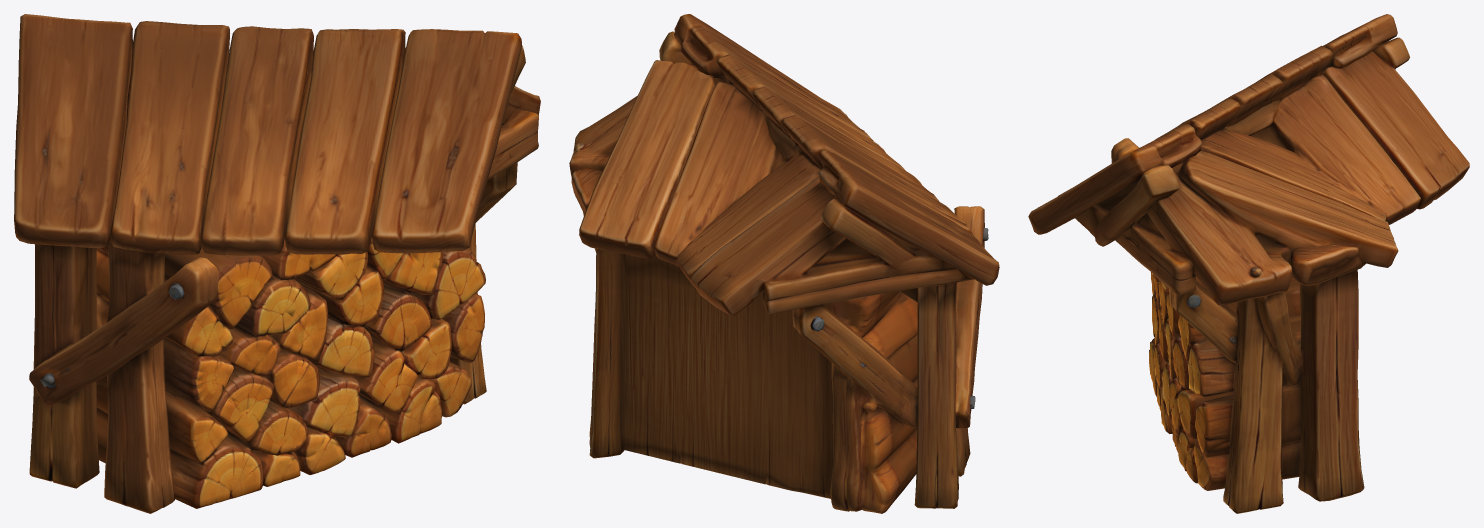
The model's file is firewood_stack.glb.
3 views of the same model, side by side, from view 1: azimuth 30°, elevation 25°; view 2: azimuth 150°, elevation 25°; view 3: azimuth 270°, elevation 25° (orthographic). The views are drawn at different scales.
Visible parts, largest first — view 1: tripo_node_5b05d00f-0650-4277-80a3-88990b7333b4; view 2: tripo_node_5b05d00f-0650-4277-80a3-88990b7333b4; view 3: tripo_node_5b05d00f-0650-4277-80a3-88990b7333b4.
Part boxes in pixels (bbox=[...]): tripo_node_5b05d00f-0650-4277-80a3-88990b7333b4: bbox=[14, 14, 540, 513]; tripo_node_5b05d00f-0650-4277-80a3-88990b7333b4: bbox=[569, 14, 999, 513]; tripo_node_5b05d00f-0650-4277-80a3-88990b7333b4: bbox=[1028, 14, 1469, 513].
Size of the model in its own units: 0.9771 by 0.7592 by 0.8662.
1 material, 1 textured.
